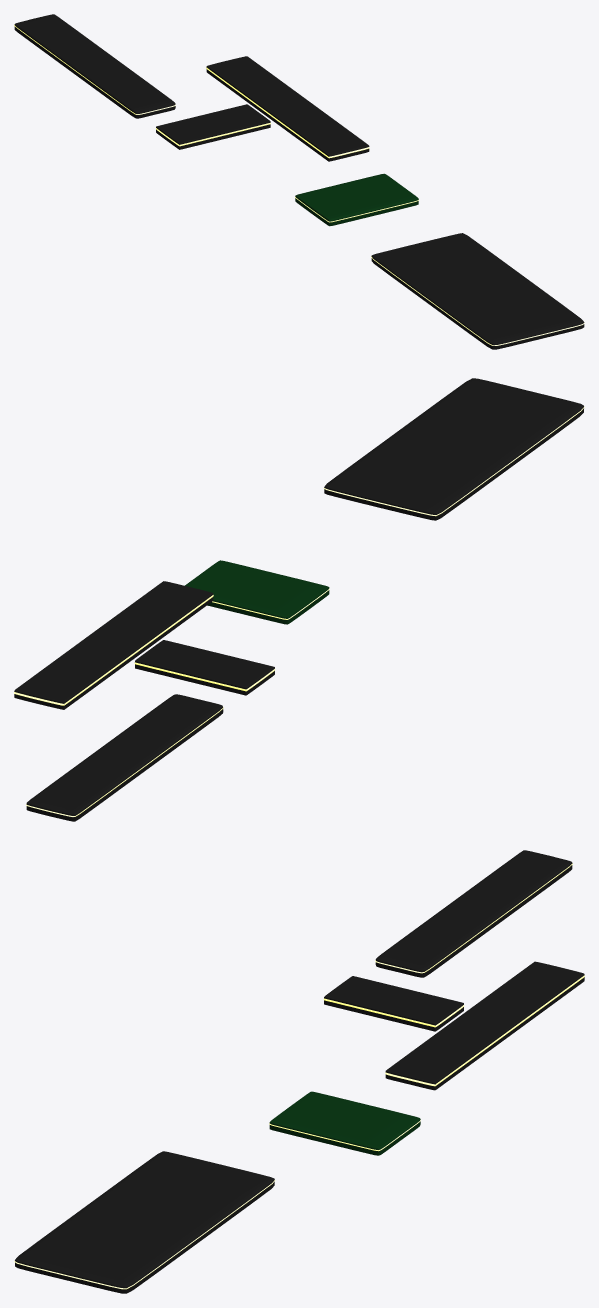
File: tutorial level.fbx
The picture shows the model from 3 angles, top to bottom: view 1: azimuth 30°, elevation 25°; view 2: azimuth 150°, elevation 25°; view 3: azimuth 330°, elevation 25°; orthographic projection. The views are drawn at different scales.
Visible parts, largest first — view 1: Platform L.004, Platform L.005, Platform L.007, Platform M.001, Platform L.006; view 2: Platform L.004, Platform L.005, Platform L.007, Platform M.001, Platform L.006; view 3: Platform L.004, Platform L.005, Platform L.007, Platform M.001, Platform L.006.
Part boxes in pixels (box(x1,y1,x2,y2)): Platform L.004: box(371, 233, 584, 349); Platform L.005: box(206, 56, 369, 161); Platform L.007: box(14, 14, 175, 118); Platform M.001: box(295, 173, 418, 226); Platform L.006: box(156, 104, 270, 149); Platform L.004: box(323, 378, 584, 520); Platform L.005: box(14, 581, 213, 709); Platform L.007: box(26, 694, 223, 821); Platform M.001: box(185, 560, 329, 624); Platform L.006: box(134, 640, 275, 695); Platform L.004: box(14, 1151, 275, 1293); Platform L.005: box(385, 961, 584, 1090); Platform L.007: box(375, 850, 572, 977); Platform M.001: box(269, 1091, 420, 1155); Platform L.006: box(323, 976, 464, 1031).
Size of the model in its own units: 1029 by 167 by 5545.
